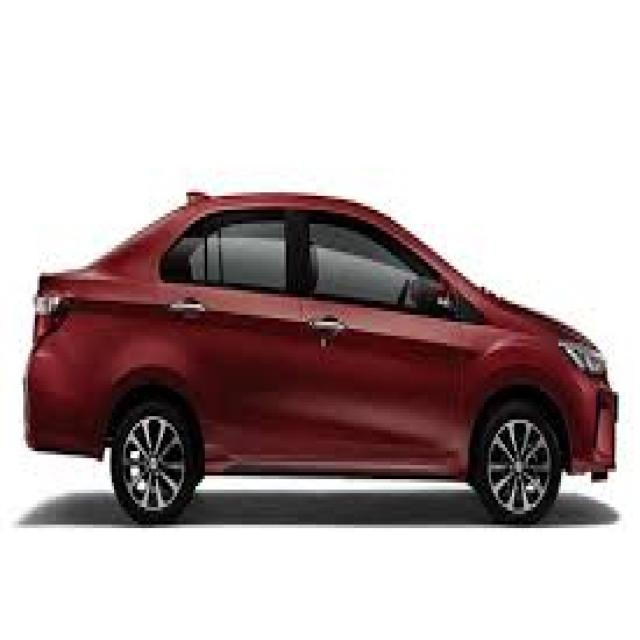PeroduaBezza: (21, 186, 619, 524)
